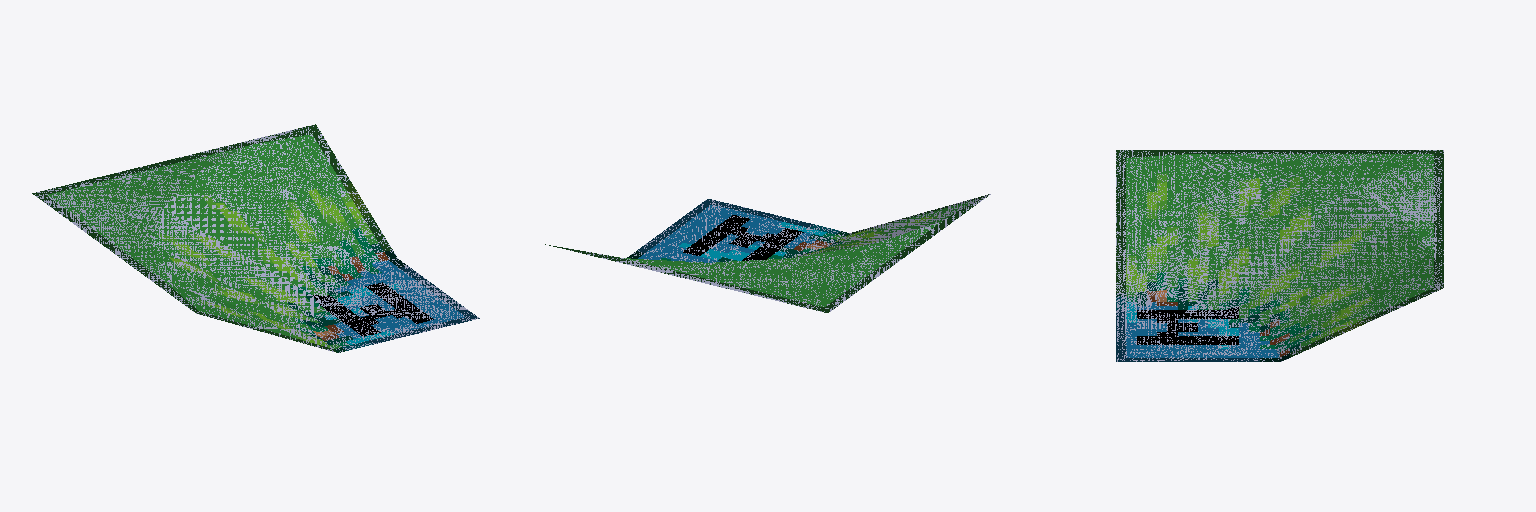
3 views of the same model, side by side, from view 1: azimuth 30°, elevation 25°; view 2: azimuth 150°, elevation 25°; view 3: azimuth 270°, elevation 25° (orthographic).
Parts seen in each view (by area): view 1: Mesh1 Model; view 2: Mesh1 Model; view 3: Mesh1 Model.
Part boxes in pixels (x1,y1,x2,y2): Mesh1 Model: (32, 124, 479, 352); Mesh1 Model: (545, 194, 990, 312); Mesh1 Model: (1116, 150, 1443, 361).
Bounding box in the file's own units: 32 × 8 × 32.
Materials: 2 (1 with a texture image).